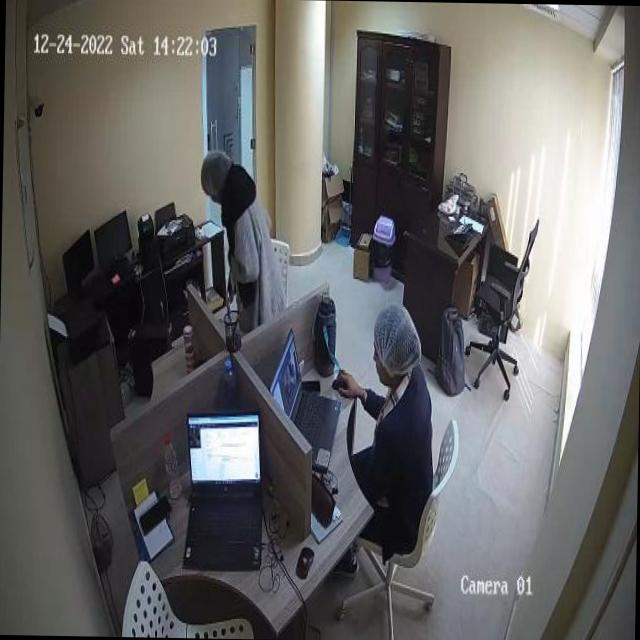hairnet: (373, 306, 418, 372), (200, 154, 228, 192)
